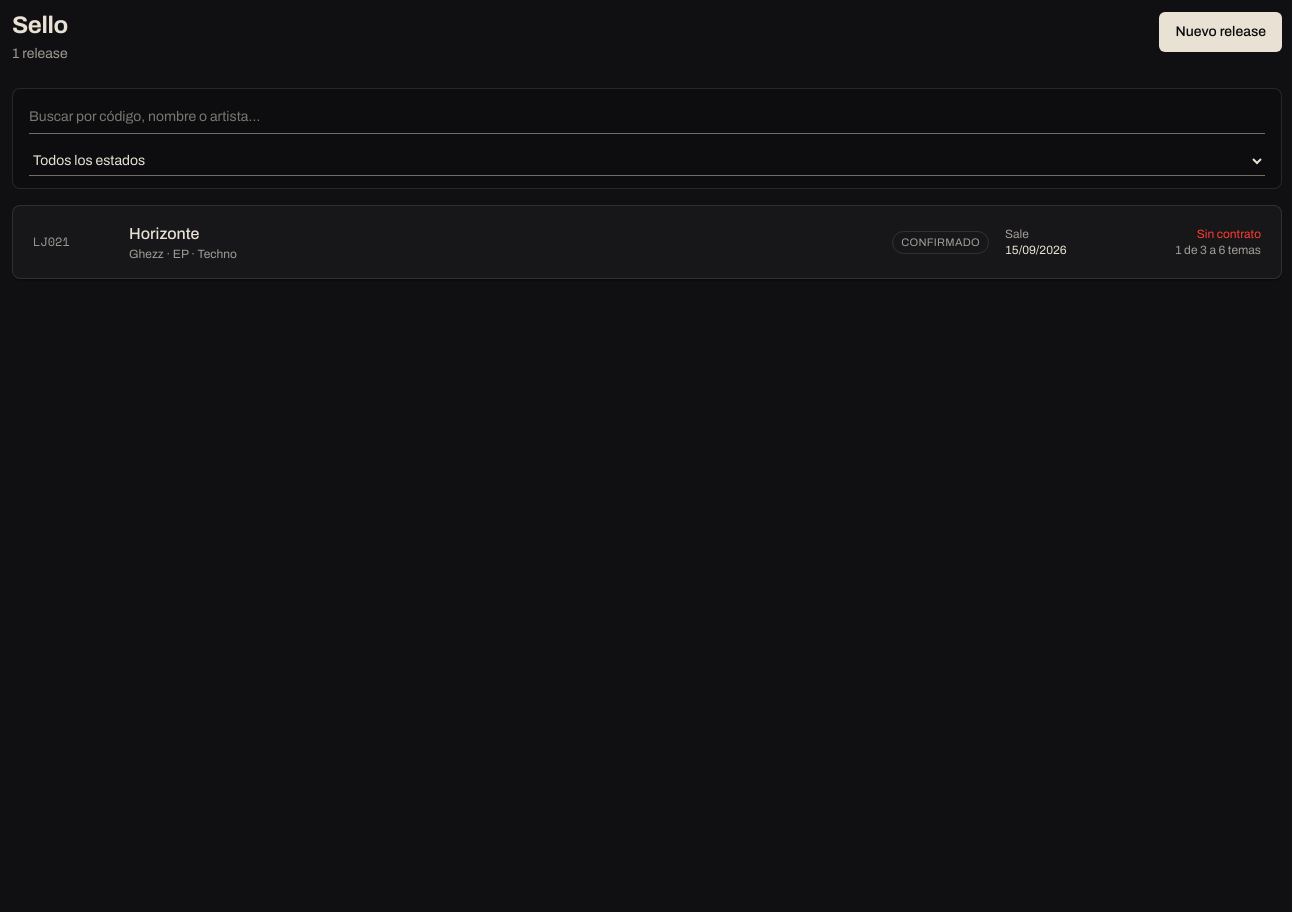
Test case: el tracklist › avisa cuántos faltan y deja seguir cargando igual
The image size is (1292, 912).
Click the text "Horizonte": (164, 234) left=129, top=225, right=199, bottom=242
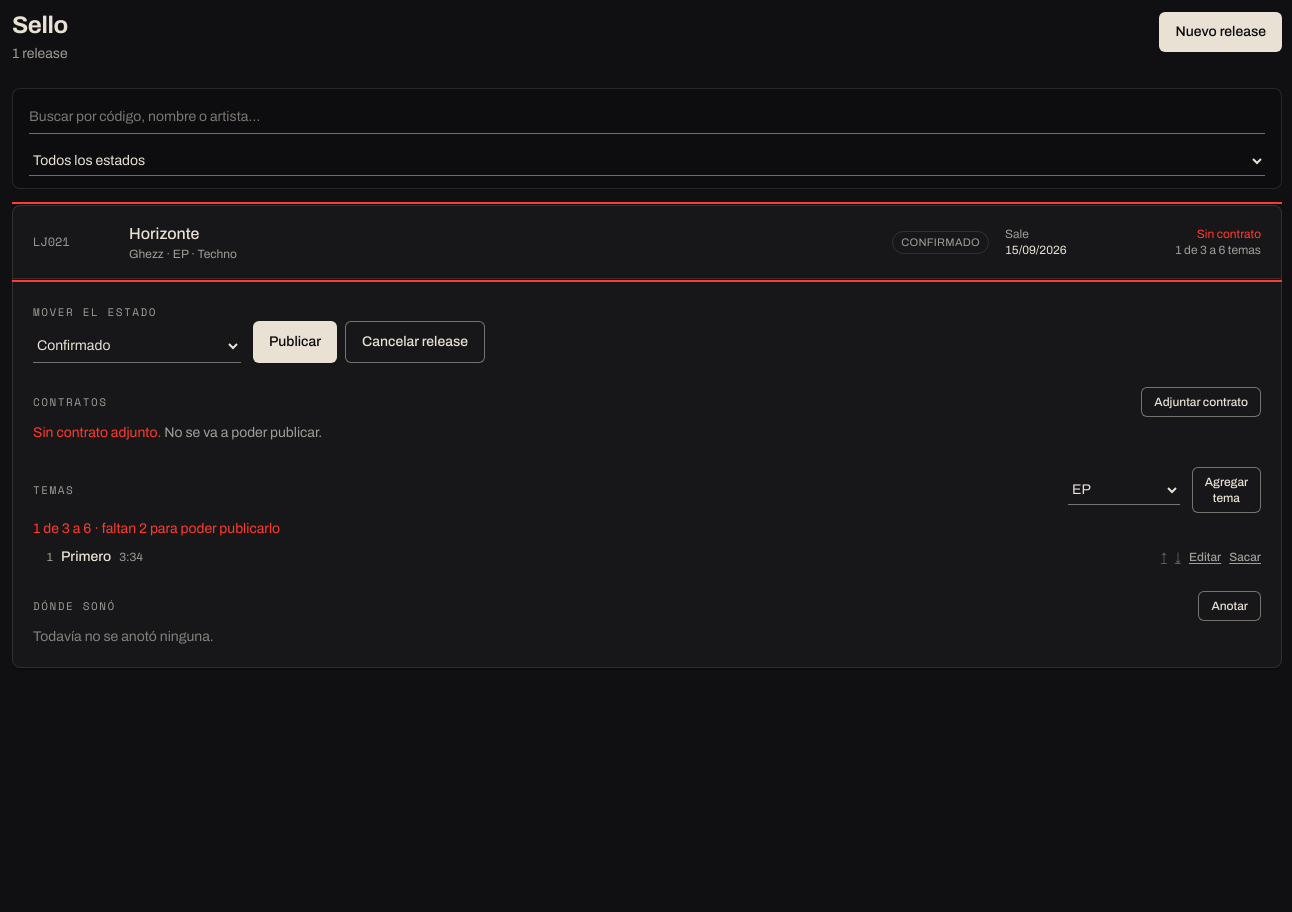
Expected: the text "1 de 3 a 6 · faltan 2 para poder publicarlo" is shown, left=33, top=521, right=280, bottom=536
Expected: the button "Agregar tema" is shown, left=1192, top=467, right=1261, bottom=513
